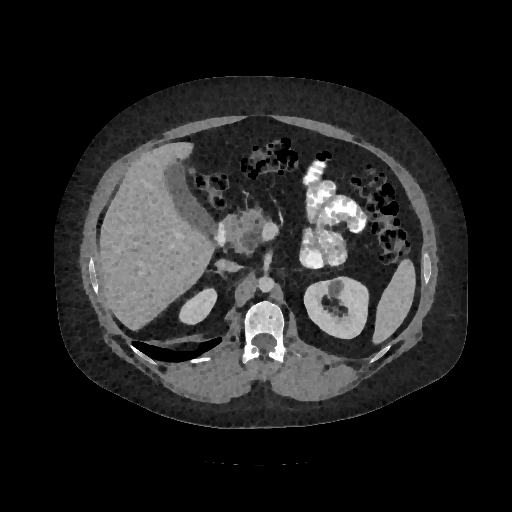Lesion: (325, 277, 346, 303)
